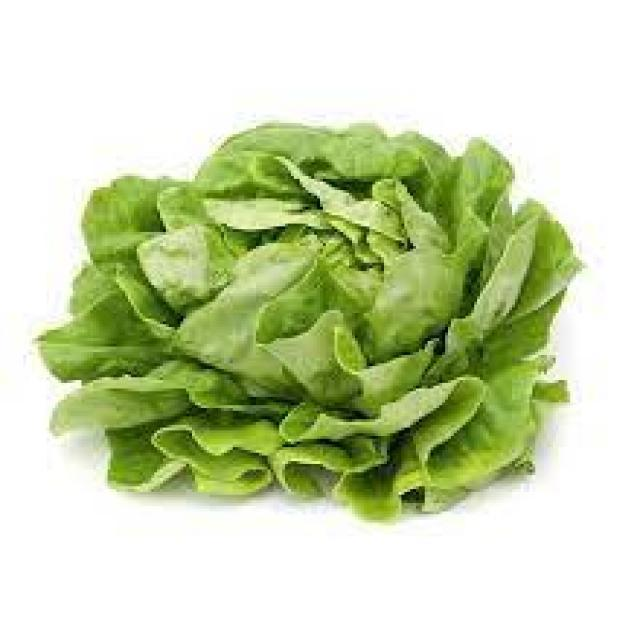Lettuce: (32, 118, 584, 526)
